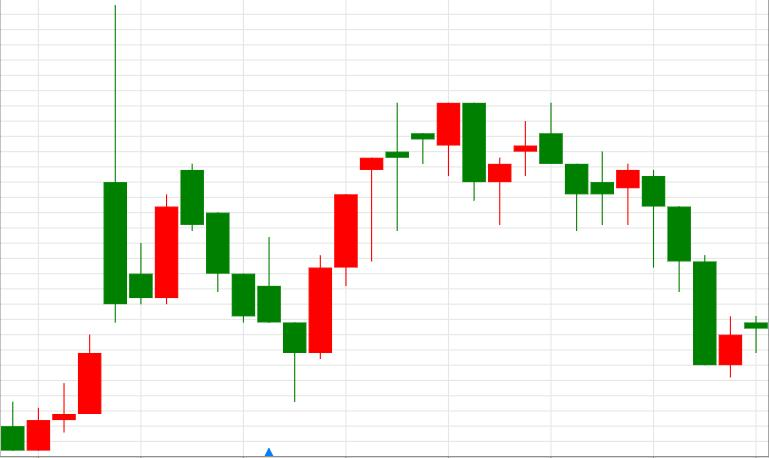bearish_engulfing_fall: (309, 102, 486, 359)
hammer_rise: (181, 163, 306, 402)
